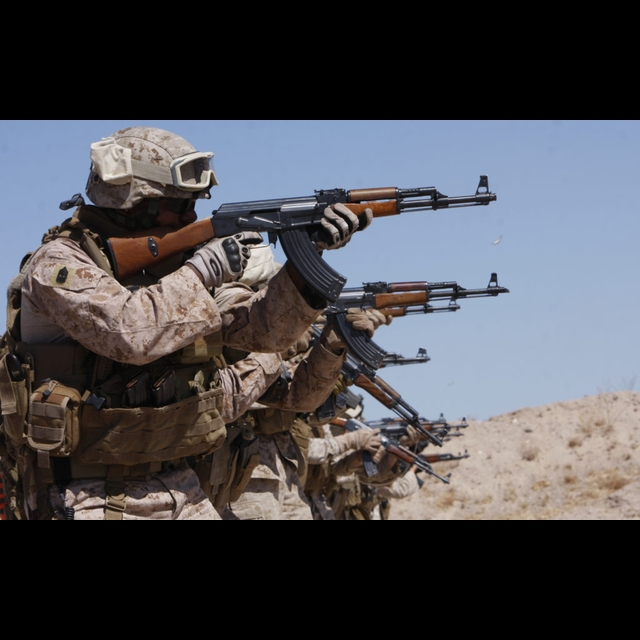AK47: (248, 172, 500, 254)
